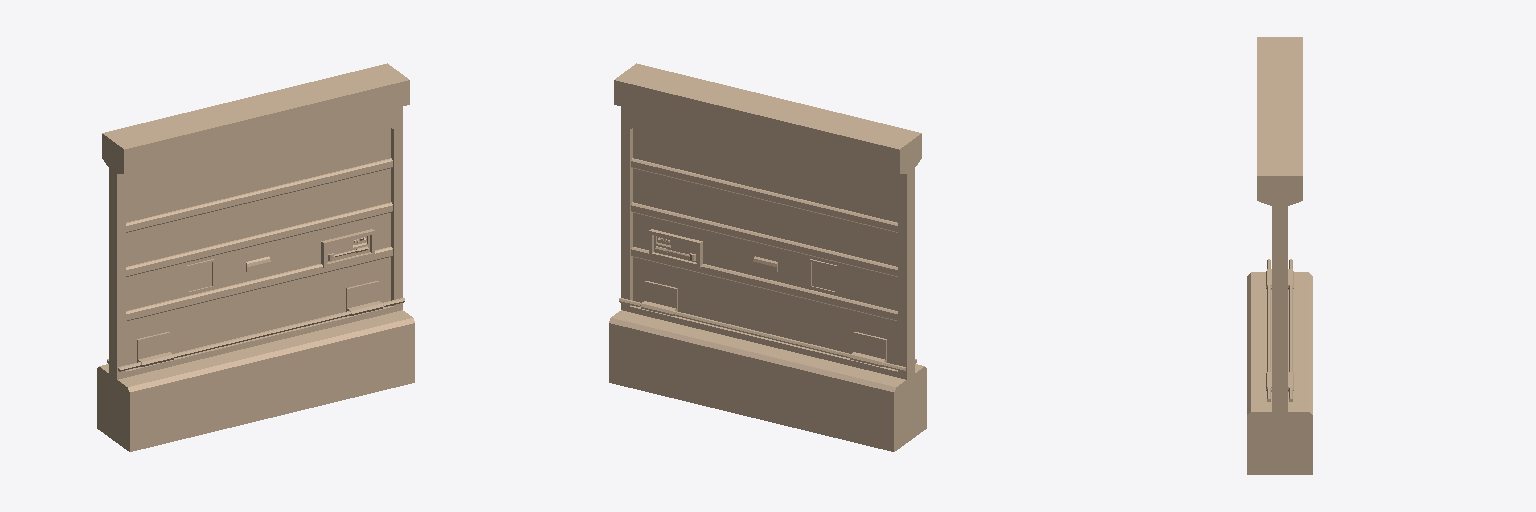
Rendered from secure_access_door_old.obj.
The picture shows the model from 3 angles: view 1: azimuth 30°, elevation 25°; view 2: azimuth 150°, elevation 25°; view 3: azimuth 270°, elevation 25°; orthographic projection.
Parts seen in each view (by area): view 1: door, base; view 2: door, base; view 3: base, door.
Boxes of the visible parts, x1=… form: door: x1=107, y1=107, x2=404, y2=382; base: x1=97, y1=63, x2=414, y2=451; door: x1=619, y1=107, x2=916, y2=382; base: x1=609, y1=63, x2=926, y2=451; base: x1=1247, y1=37, x2=1312, y2=474; door: x1=1266, y1=206, x2=1293, y2=414.
Size of the model in its own units: 5 by 5 by 1.